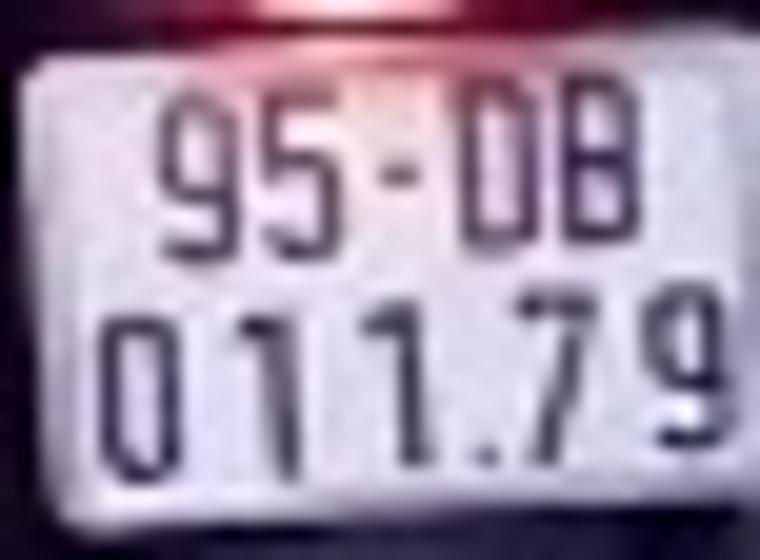-: (374, 152, 439, 192)
.: (473, 424, 512, 477)
0: (88, 312, 189, 487)
1: (361, 300, 442, 471), (243, 300, 313, 489)
5: (260, 85, 346, 271)
7: (510, 284, 598, 463)
9: (638, 274, 742, 455), (159, 94, 249, 272)
B: (557, 60, 650, 250)
D: (453, 64, 550, 256)
